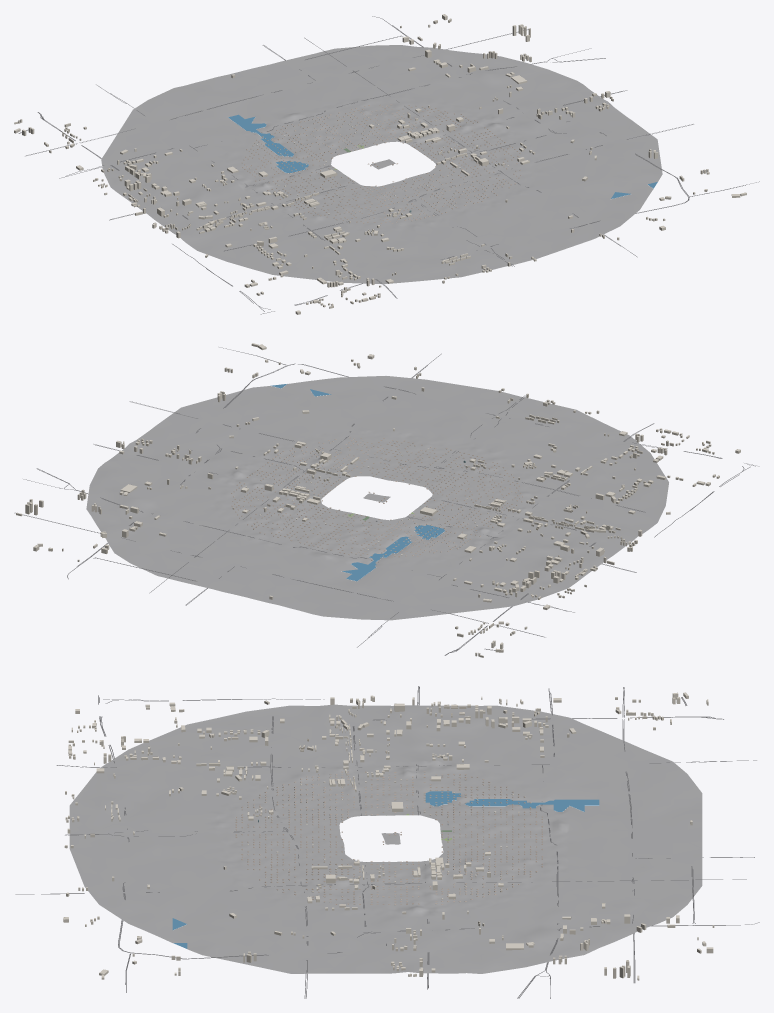
Rendered from backdrop.glb.
3 renders of one model, top to bottom at view 1: azimuth 30°, elevation 25°; view 2: azimuth 150°, elevation 25°; view 3: azimuth 270°, elevation 25°, orthographic. The views are drawn at different scales.
Parts seen in each view (by area): view 1: backdrop_terrain_paved, backdrop_buildings_building_local_wall_c, backdrop_road, backdrop_vista_local_roof_a, backdrop_vista_building_local_wall_a, backdrop_water; view 2: backdrop_terrain_paved, backdrop_buildings_building_local_wall_c, backdrop_road, backdrop_vista_local_roof_a, backdrop_vista_building_local_wall_a, backdrop_water; view 3: backdrop_terrain_paved, backdrop_buildings_building_local_wall_c, backdrop_road, backdrop_vista_local_roof_a, backdrop_vista_building_local_wall_a, backdrop_water.
Part boxes in pixels (left/top/right/bottom): backdrop_terrain_paved: left=101, top=45, right=662, bottom=284; backdrop_buildings_building_local_wall_c: left=14, top=14, right=746, bottom=314; backdrop_road: left=18, top=16, right=759, bottom=314; backdrop_vista_local_roof_a: left=242, top=104, right=521, bottom=223; backdrop_vista_building_local_wall_a: left=241, top=105, right=520, bottom=223; backdrop_water: left=228, top=114, right=657, bottom=198; backdrop_terrain_paved: left=86, top=376, right=668, bottom=620; backdrop_buildings_building_local_wall_c: left=16, top=343, right=740, bottom=657; backdrop_road: left=14, top=347, right=759, bottom=655; backdrop_vista_local_roof_a: left=231, top=437, right=522, bottom=557; backdrop_vista_building_local_wall_a: left=231, top=438, right=522, bottom=558; backdrop_water: left=270, top=384, right=444, bottom=581; backdrop_terrain_paved: left=69, top=704, right=702, bottom=973; backdrop_buildings_building_local_wall_c: left=63, top=692, right=714, bottom=980; backdrop_road: left=15, top=686, right=759, bottom=998; backdrop_vista_local_roof_a: left=235, top=771, right=542, bottom=904; backdrop_vista_building_local_wall_a: left=235, top=772, right=542, bottom=905; backdrop_water: left=172, top=791, right=599, bottom=948.
Size of what is drawn, in the model's own units: 10062 by 188 by 10144.
